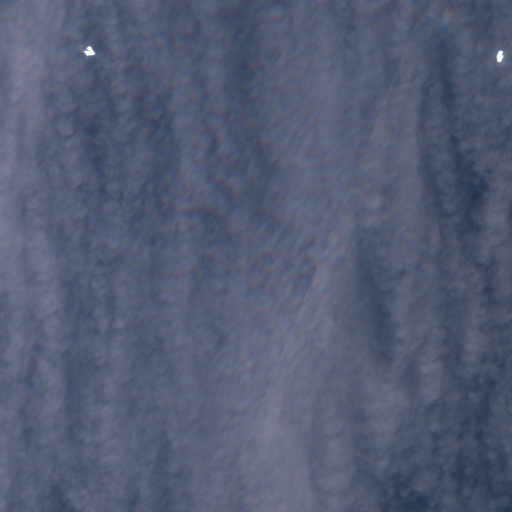Iceberg: (83, 46, 94, 55), (496, 50, 503, 62)
